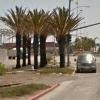Palm tree: (4, 6, 74, 67)
